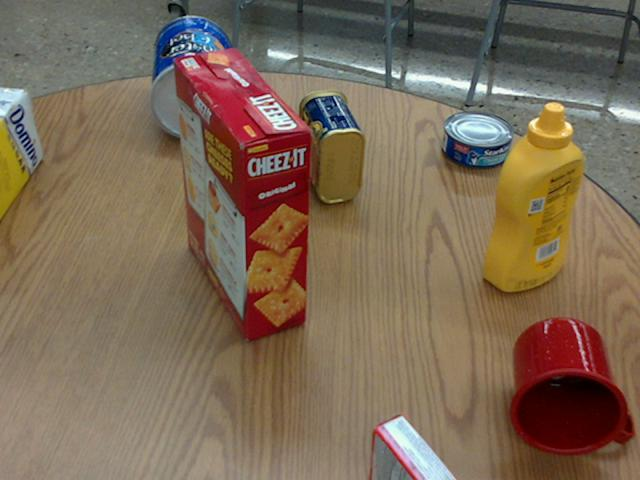cracker_box: (176, 51, 314, 339)
gelatin_box: (369, 416, 453, 479)
master_chef_can: (150, 17, 236, 140)
mug: (511, 317, 630, 454)
mustard_bottle: (482, 102, 583, 289)
potted_meat_can: (298, 89, 366, 202)
sugar_box: (0, 88, 42, 220)
tuna_fish_can: (441, 109, 512, 168)
